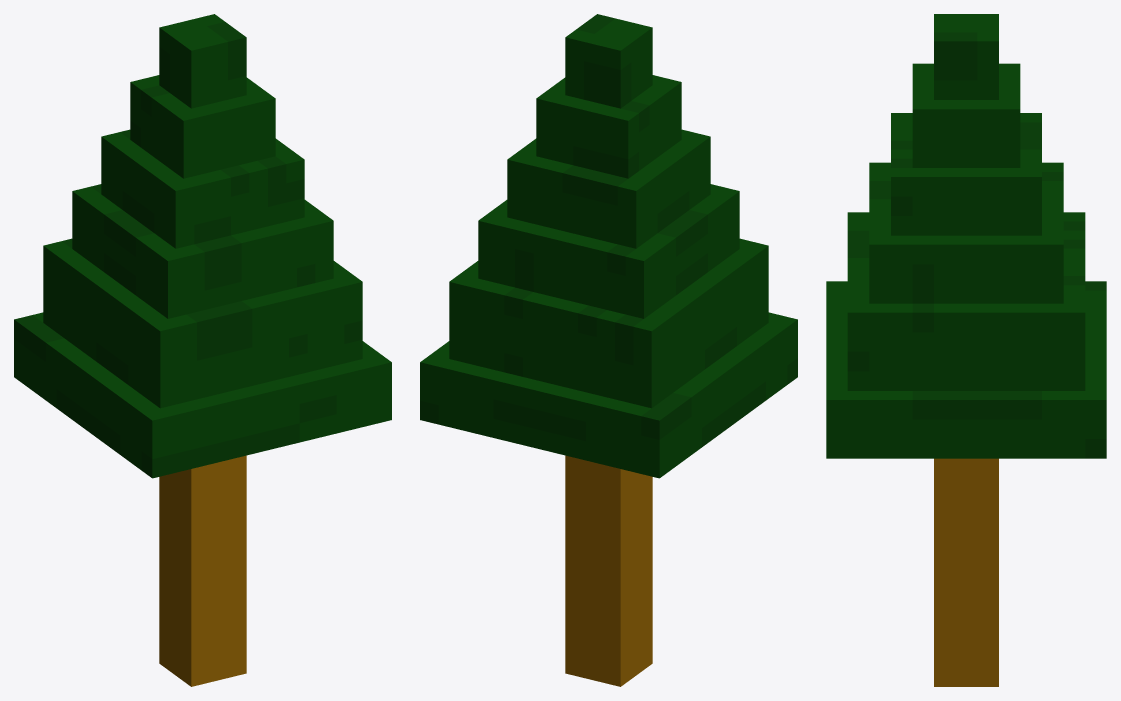
File: Spruce.obj
3 renders of one model, left to right at view 1: azimuth 30°, elevation 25°; view 2: azimuth 150°, elevation 25°; view 3: azimuth 270°, elevation 25°, orthographic.
Parts seen in each view (by area): view 1: Spruce; view 2: Spruce; view 3: Spruce.
Boxes of the visible parts, x1,y1,x2,y2 form: Spruce: [14, 14, 391, 686]; Spruce: [420, 14, 797, 686]; Spruce: [826, 14, 1106, 686].
Bounding box in the file's own units: 13 × 33 × 13.
Materials: 1 (1 with a texture image).
